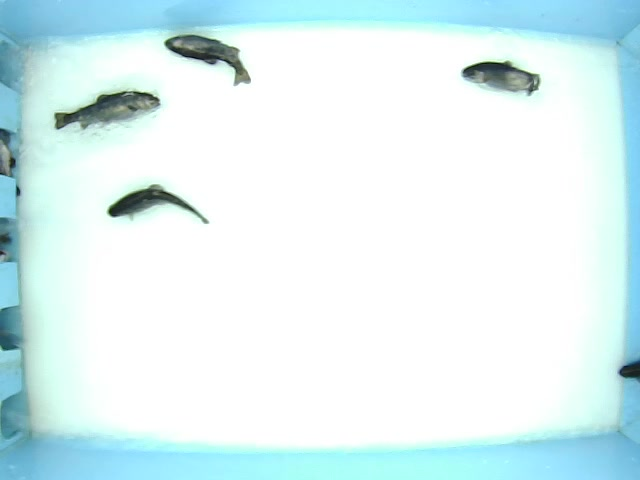fish: (43, 83, 194, 133), (157, 24, 268, 92), (444, 44, 551, 104), (95, 184, 225, 227)
